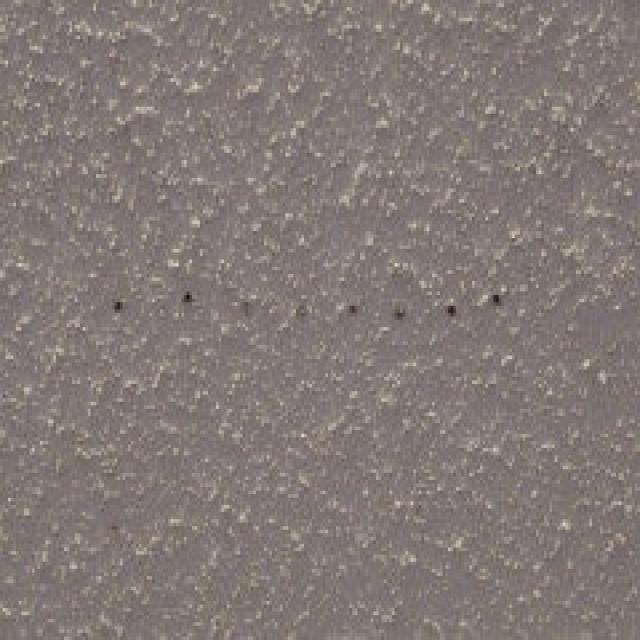Crack: (114, 299, 132, 315), (176, 291, 196, 303), (241, 302, 253, 318), (299, 305, 310, 321), (394, 311, 408, 322), (449, 304, 461, 316), (491, 296, 503, 308), (346, 304, 356, 314)
